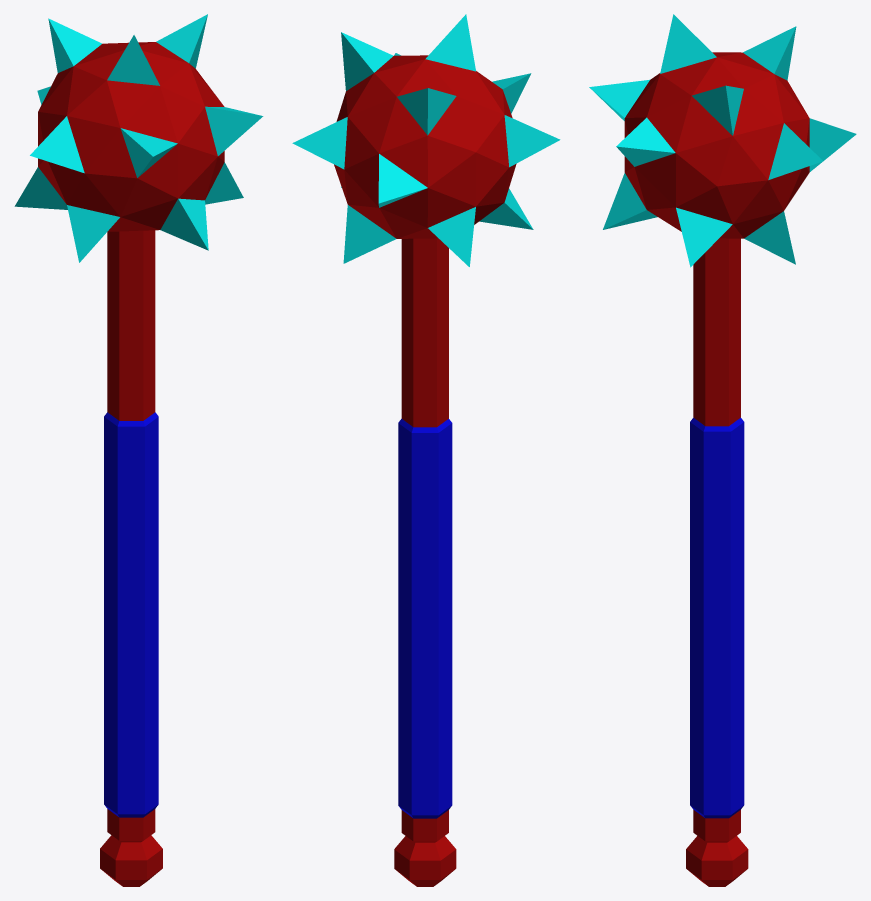
File: Mace_Rare_Standard.fbx
3 renders of one model, left to right at view 1: azimuth 30°, elevation 25°; view 2: azimuth 150°, elevation 25°; view 3: azimuth 270°, elevation 25°, orthographic.
Parts seen in each view (by area): view 1: SM_Wep_Mace_01; view 2: SM_Wep_Mace_01; view 3: SM_Wep_Mace_01.
Boxes of the visible parts, left/top/right/bottom form: SM_Wep_Mace_01: left=14, top=14, right=263, bottom=886; SM_Wep_Mace_01: left=292, top=14, right=560, bottom=886; SM_Wep_Mace_01: left=589, top=14, right=856, bottom=886.
Bounding box in the file's own units: 25.68 × 97.38 × 27.56.
